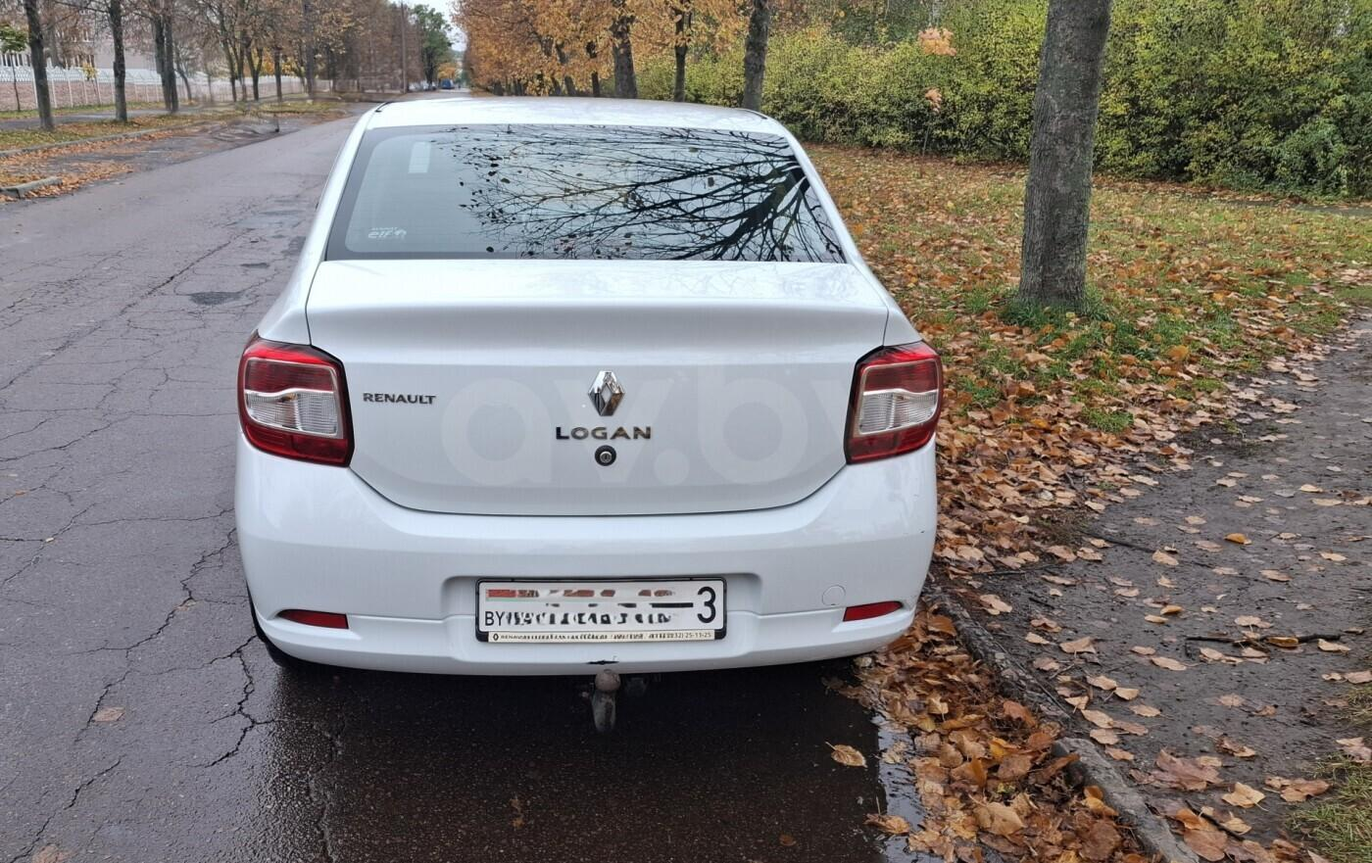Logan_2013-2018: (232, 85, 943, 713)
